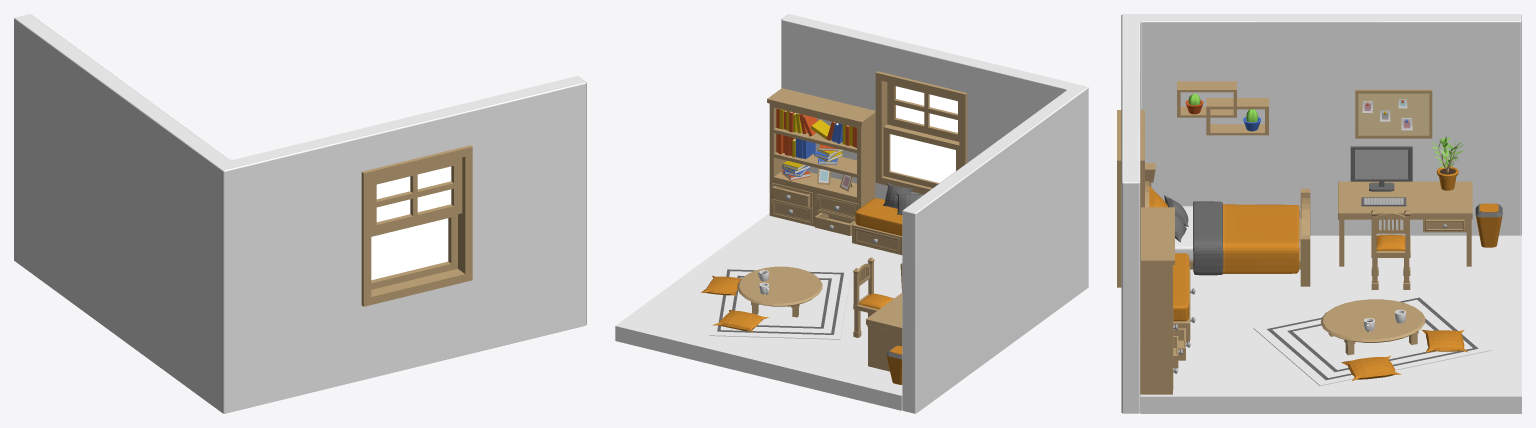
The model's file is another_room.glb.
3 renders of one model, left to right at view 1: azimuth 30°, elevation 25°; view 2: azimuth 150°, elevation 25°; view 3: azimuth 270°, elevation 25°, orthographic. The views are drawn at different scales.
Visible parts, largest first — view 1: Wall, Window; view 2: Wall, Floor, Bookshelf, Window, Carpet, Coffe table, Sofa, Table, Book.001, Chair, Book.002, Cushion.001 (+3 smaller); view 3: Wall, Floor, Bed, Carpet, Bookshelf, Table, Board, Coffe table, Wallshelf, PC, Chair, Bed frame (+8 smaller).
Boxes of the visible parts, x1=… form: Wall: x1=14, y1=14, x2=586, y2=413; Window: x1=361, y1=145, x2=472, y2=306; Wall: x1=781, y1=14, x2=1088, y2=413; Floor: x1=615, y1=213, x2=902, y2=410; Bookshelf: x1=767, y1=88, x2=875, y2=235; Window: x1=875, y1=71, x2=967, y2=194; Carpet: x1=709, y1=265, x2=851, y2=339; Coffe table: x1=737, y1=266, x2=822, y2=317; Sofa: x1=852, y1=198, x2=902, y2=255; Table: x1=866, y1=293, x2=902, y2=371; Book.001: x1=776, y1=108, x2=856, y2=147; Chair: x1=853, y1=257, x2=893, y2=337; Book.002: x1=776, y1=133, x2=815, y2=158; Cushion.001: x1=712, y1=310, x2=769, y2=332; Wall: x1=1121, y1=14, x2=1521, y2=413; Floor: x1=1140, y1=235, x2=1521, y2=413; Bed: x1=1175, y1=201, x2=1299, y2=275; Carpet: x1=1253, y1=292, x2=1491, y2=385; Bookshelf: x1=1140, y1=207, x2=1190, y2=394; Table: x1=1338, y1=181, x2=1472, y2=266; Board: x1=1355, y1=89, x2=1432, y2=138; Coffe table: x1=1320, y1=299, x2=1425, y2=355; Wallshelf: x1=1177, y1=81, x2=1268, y2=135; PC: x1=1350, y1=146, x2=1412, y2=191; Chair: x1=1371, y1=210, x2=1410, y2=289; Bed frame: x1=1145, y1=163, x2=1310, y2=286.
Size of the model in its own units: 8.4 by 5.37 by 8.49.
